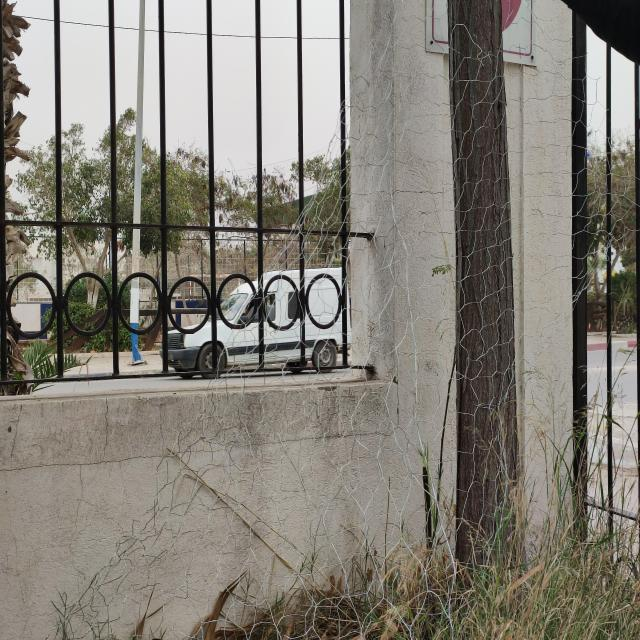fence line: (9, 26, 385, 617)
